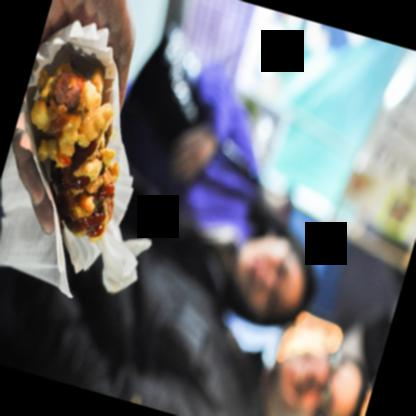handbag: (120, 20, 268, 212)
